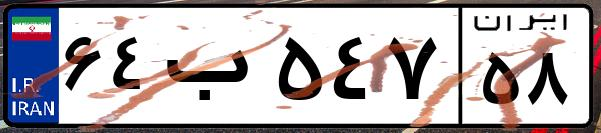4: (330, 28, 385, 110), (110, 28, 158, 98)
5: (270, 28, 330, 110), (475, 38, 525, 113)
6: (57, 26, 110, 100)
7: (385, 28, 445, 110)
8: (525, 38, 570, 115)
ب: (158, 20, 270, 120)
